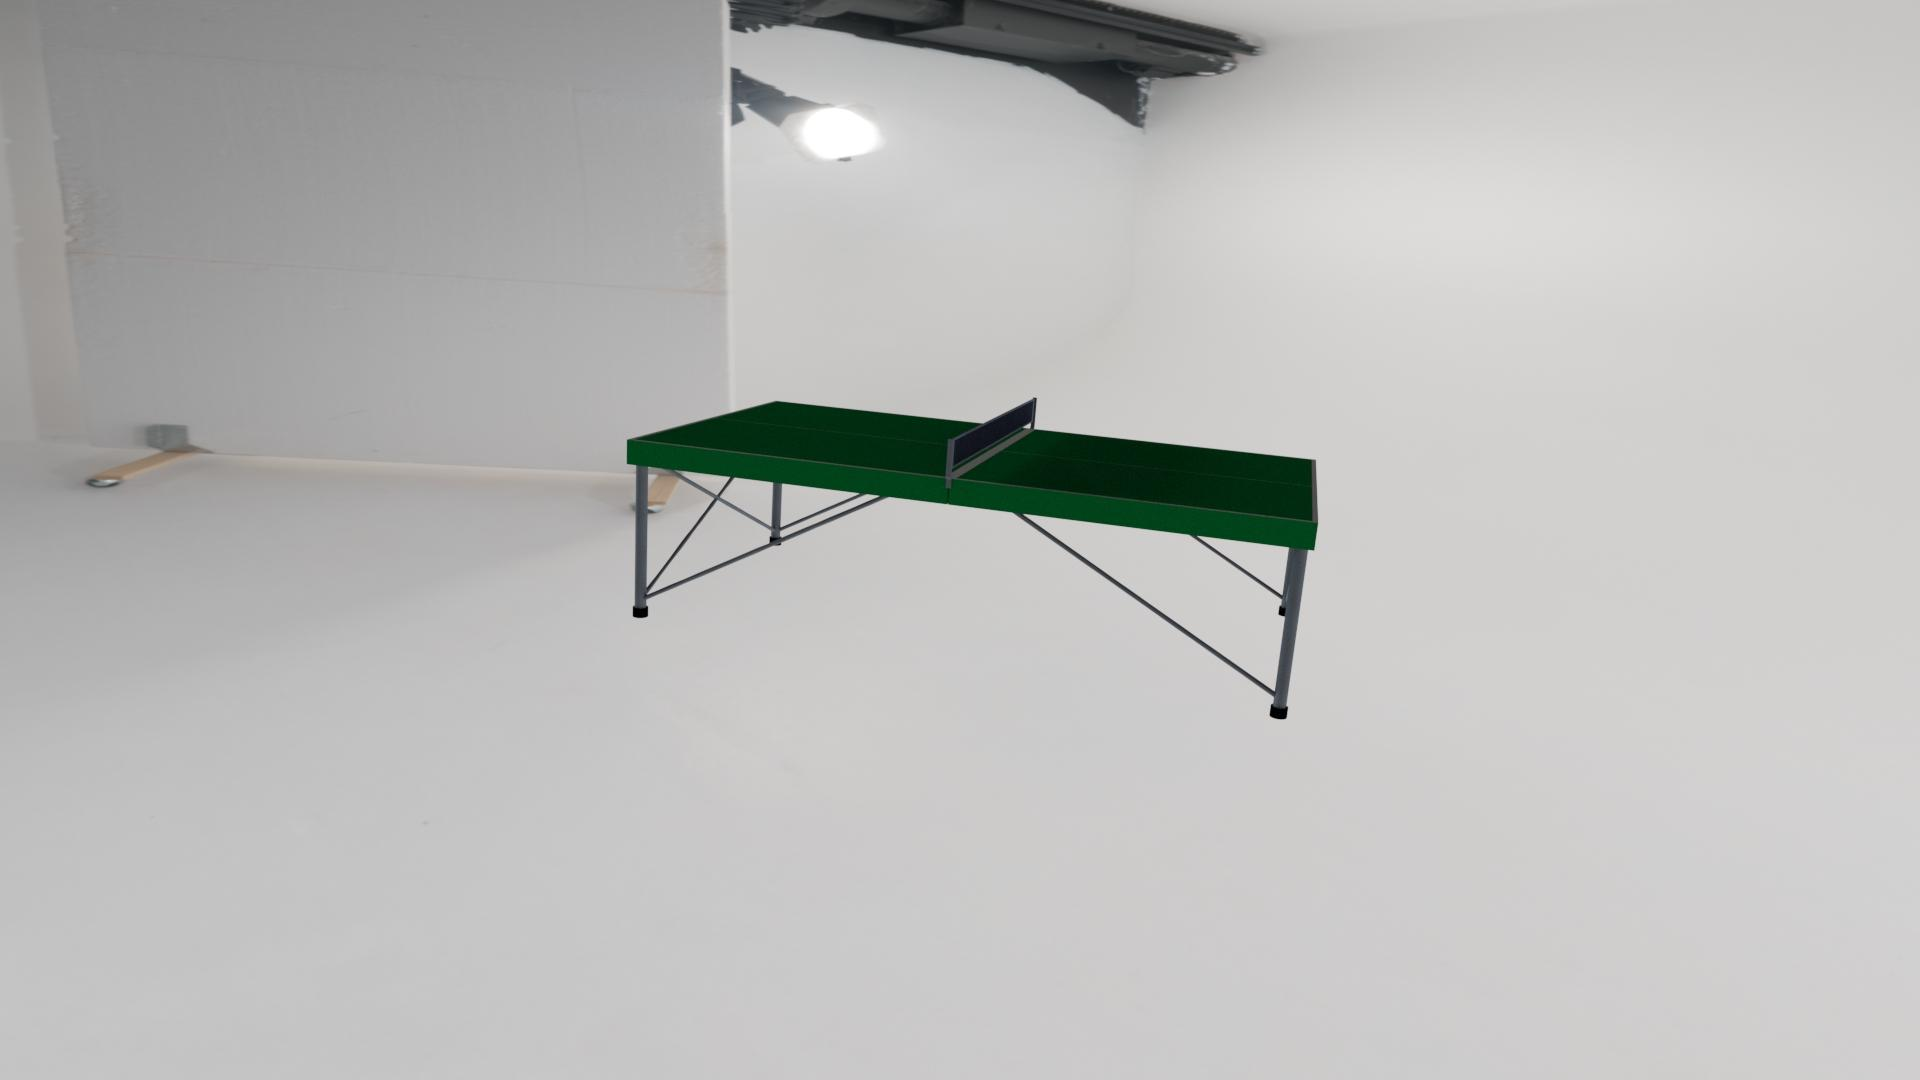table: (634, 401, 1312, 521)
